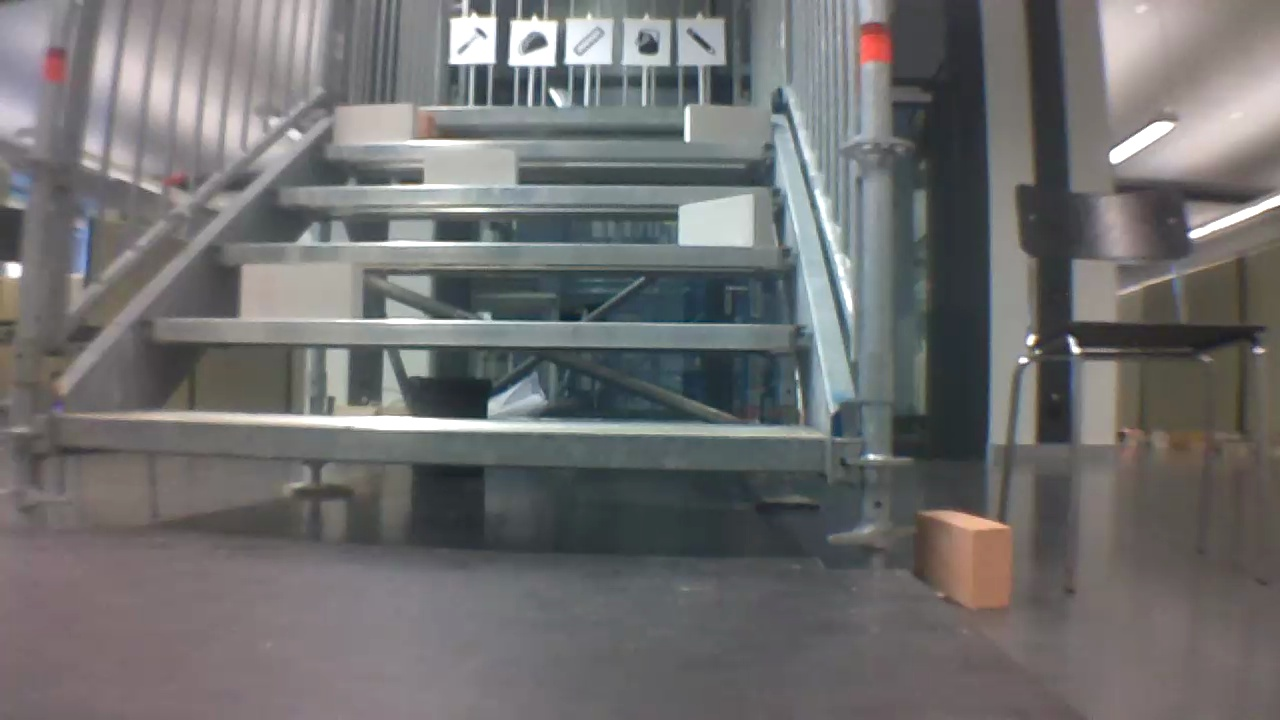brick: (244, 262, 363, 317), (677, 193, 771, 245), (425, 148, 517, 185), (682, 104, 769, 140), (334, 105, 416, 140), (419, 117, 435, 136)
bucket: (625, 25, 665, 58)
edge: (60, 418, 824, 470), (148, 318, 815, 348), (215, 241, 795, 266), (267, 185, 784, 206), (324, 102, 770, 123), (317, 142, 778, 160)
hammer: (450, 23, 491, 58)
pencil: (683, 26, 725, 60)
ruler: (570, 24, 607, 57)
stairs: (25, 2, 898, 563)
steps: (52, 96, 828, 481)
taco: (516, 28, 550, 59)
